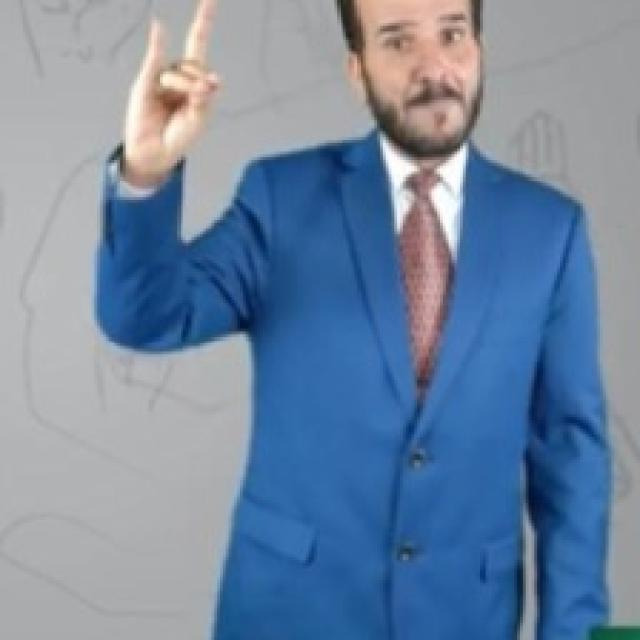Dog: (122, 2, 224, 166)
